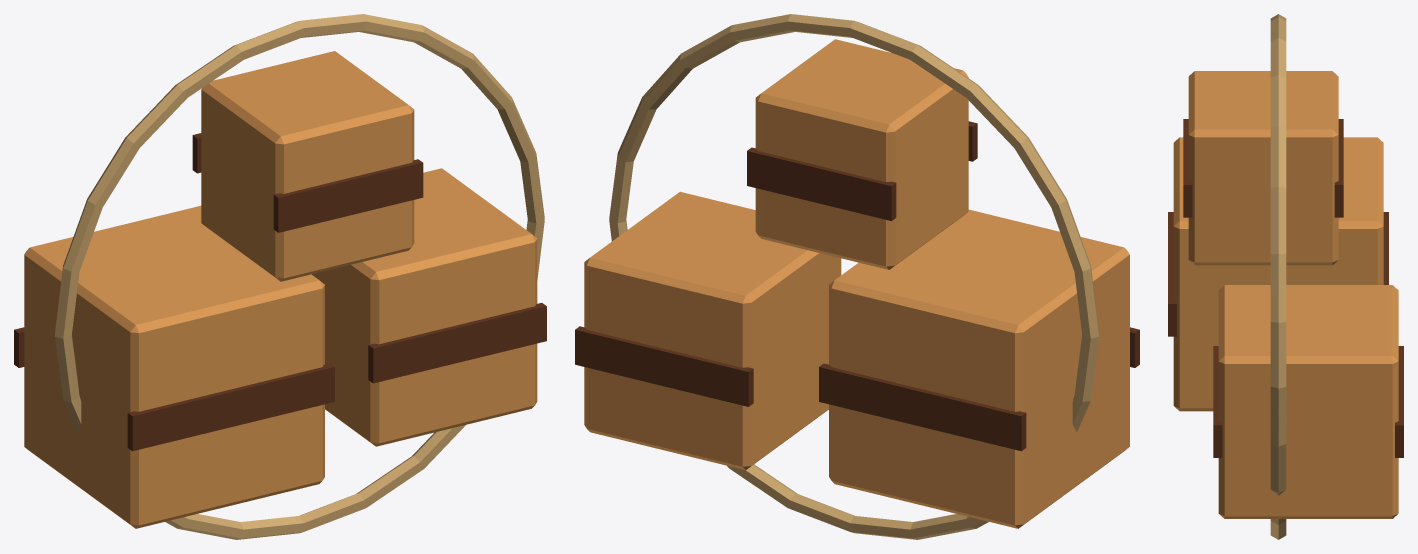
Rendered from upgrade_lashed_cargo_crates.web-pbr.glb.
3 renders of one model, left to right at view 1: azimuth 30°, elevation 25°; view 2: azimuth 150°, elevation 25°; view 3: azimuth 270°, elevation 25°, orthographic. The views are drawn at different scales.
Visible parts, largest first — view 1: upgrade_lashed_cargo_crates_mesh; view 2: upgrade_lashed_cargo_crates_mesh; view 3: upgrade_lashed_cargo_crates_mesh.
Part boxes in pixels (x1=…): upgrade_lashed_cargo_crates_mesh: x1=14, y1=14, x2=546, y2=539; upgrade_lashed_cargo_crates_mesh: x1=575, y1=14, x2=1139, y2=539; upgrade_lashed_cargo_crates_mesh: x1=1168, y1=14, x2=1403, y2=539.
Size of the model in its own units: 1.76 by 1.76 by 0.7865.
Materials: 1 (1 with a texture image).
